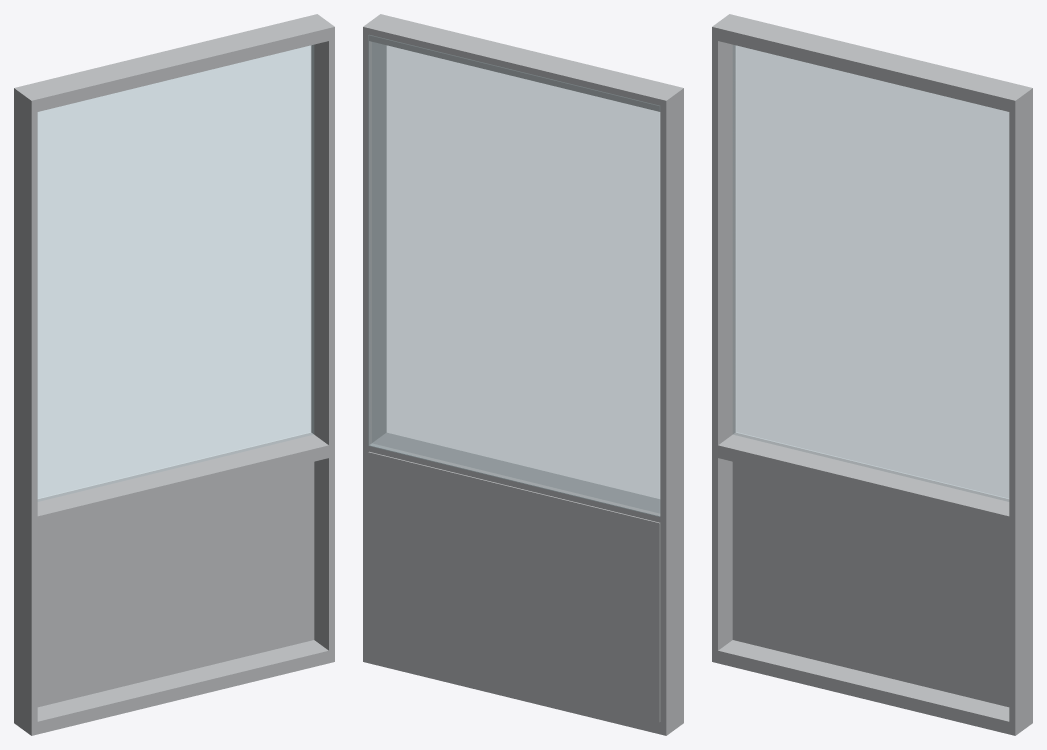
Rendered from opening.curtain_wall.h3000.glb.
The picture shows the model from 3 angles, left to right: view 1: azimuth 30°, elevation 25°; view 2: azimuth 150°, elevation 25°; view 3: azimuth 330°, elevation 25°; orthographic projection.
Parts seen in each view (by area): view 1: glazing__glass, frame__aluminium, glazing__aluminium; view 2: glazing__glass, glazing__aluminium, frame__aluminium; view 3: glazing__glass, frame__aluminium, glazing__aluminium.
Part boxes in pixels (box(x1,y1,x2,y2)): glazing__glass: box(38, 45, 313, 501); frame__aluminium: box(14, 14, 334, 735); glazing__aluminium: box(37, 462, 314, 707); glazing__glass: box(368, 35, 659, 516); glazing__aluminium: box(368, 451, 660, 722); frame__aluminium: box(363, 14, 683, 735); glazing__glass: box(733, 45, 1008, 501); frame__aluminium: box(712, 14, 1032, 735); glazing__aluminium: box(732, 462, 1009, 707).
Bounding box in the file's own units: 1.5 × 3 × 0.156.
